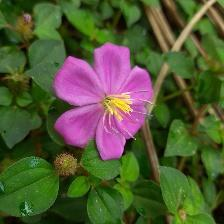malabar melastome: (53, 41, 157, 165)
